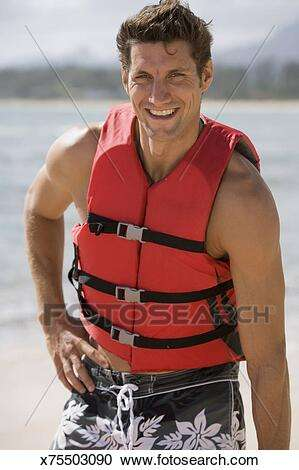reflective_clothes: (62, 87, 266, 379)
